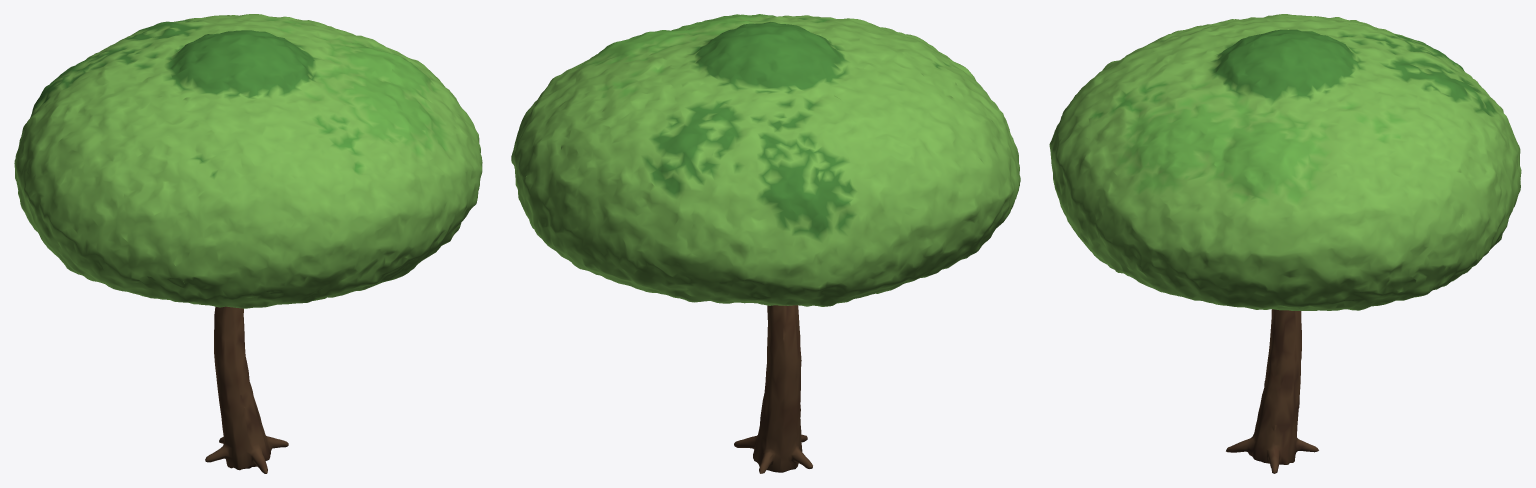
The model's file is broadleaf_mature_large_spreading.glb.
3 views of the same model, side by side, from view 1: azimuth 30°, elevation 25°; view 2: azimuth 150°, elevation 25°; view 3: azimuth 270°, elevation 25° (orthographic). The views are drawn at different scales.
Visible parts, largest first — view 1: broadleaf_mature_large_spreading_LOD0; view 2: broadleaf_mature_large_spreading_LOD0; view 3: broadleaf_mature_large_spreading_LOD0.
Boxes of the visible parts, x1=… form: broadleaf_mature_large_spreading_LOD0: x1=14, y1=14, x2=482, y2=473; broadleaf_mature_large_spreading_LOD0: x1=511, y1=14, x2=1020, y2=473; broadleaf_mature_large_spreading_LOD0: x1=1049, y1=14, x2=1521, y2=473.
Size of what is drawn, in the model's own units: 7.22 by 6.92 by 6.98.
